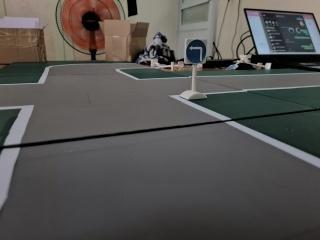left: (183, 38, 209, 65)
